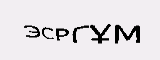Г: (72, 24, 90, 44)
М: (114, 24, 142, 44)
Р: (55, 27, 69, 43)
С: (42, 27, 56, 41)
Э: (23, 24, 41, 38)
Ұ: (89, 22, 111, 45)
